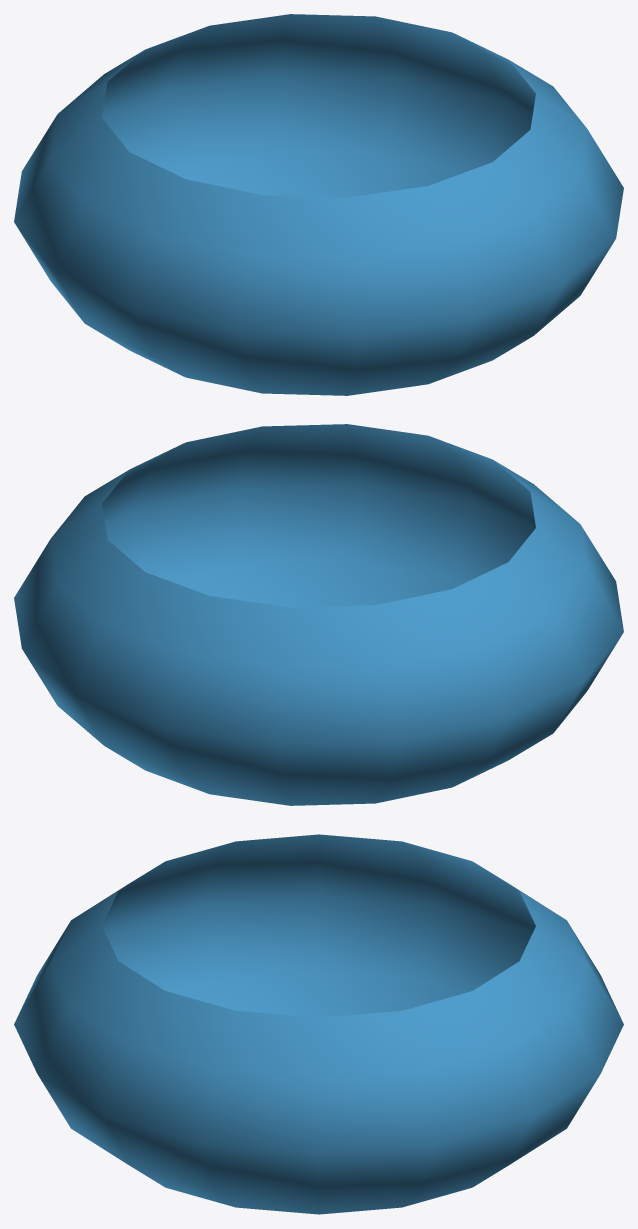
Rendered from Foam01.fbx.
3 views of the same model, one above another, from view 1: azimuth 30°, elevation 25°; view 2: azimuth 150°, elevation 25°; view 3: azimuth 270°, elevation 25° (orthographic).
Visible parts, largest first — view 1: Foam01; view 2: Foam01; view 3: Foam01.
Boxes of the visible parts, x1=… form: Foam01: x1=14, y1=14, x2=623, y2=395; Foam01: x1=14, y1=424, x2=623, y2=805; Foam01: x1=14, y1=834, x2=623, y2=1214.
Bounding box in the file's own units: 54.29 × 19.31 × 54.29.
